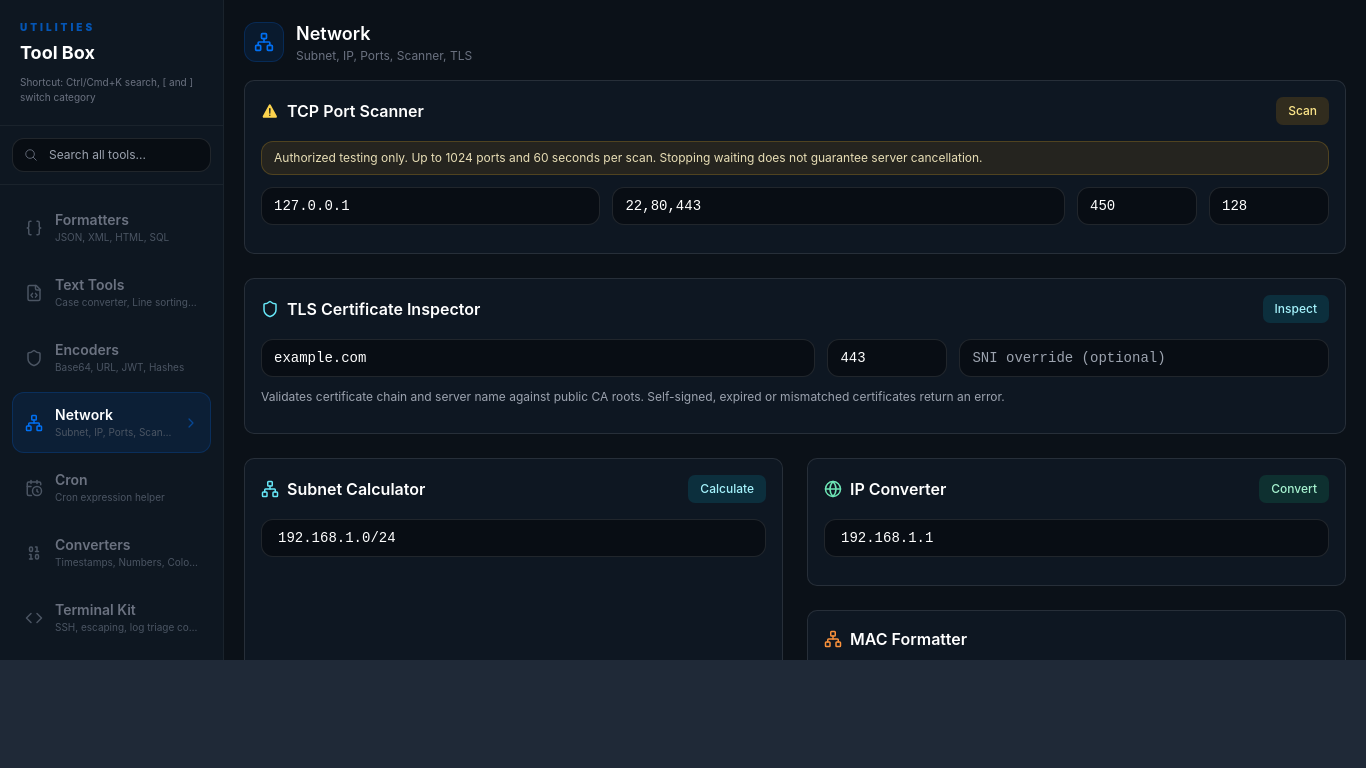
Scenario: Toolbox network workflows › rejects invalid numeric edits instead of silently substituting defaults
Later steps or results of the test are not shown.
Replace the text in the number field named "Scan concurrency" with "0": (1269, 206) [1209, 187, 1329, 225]
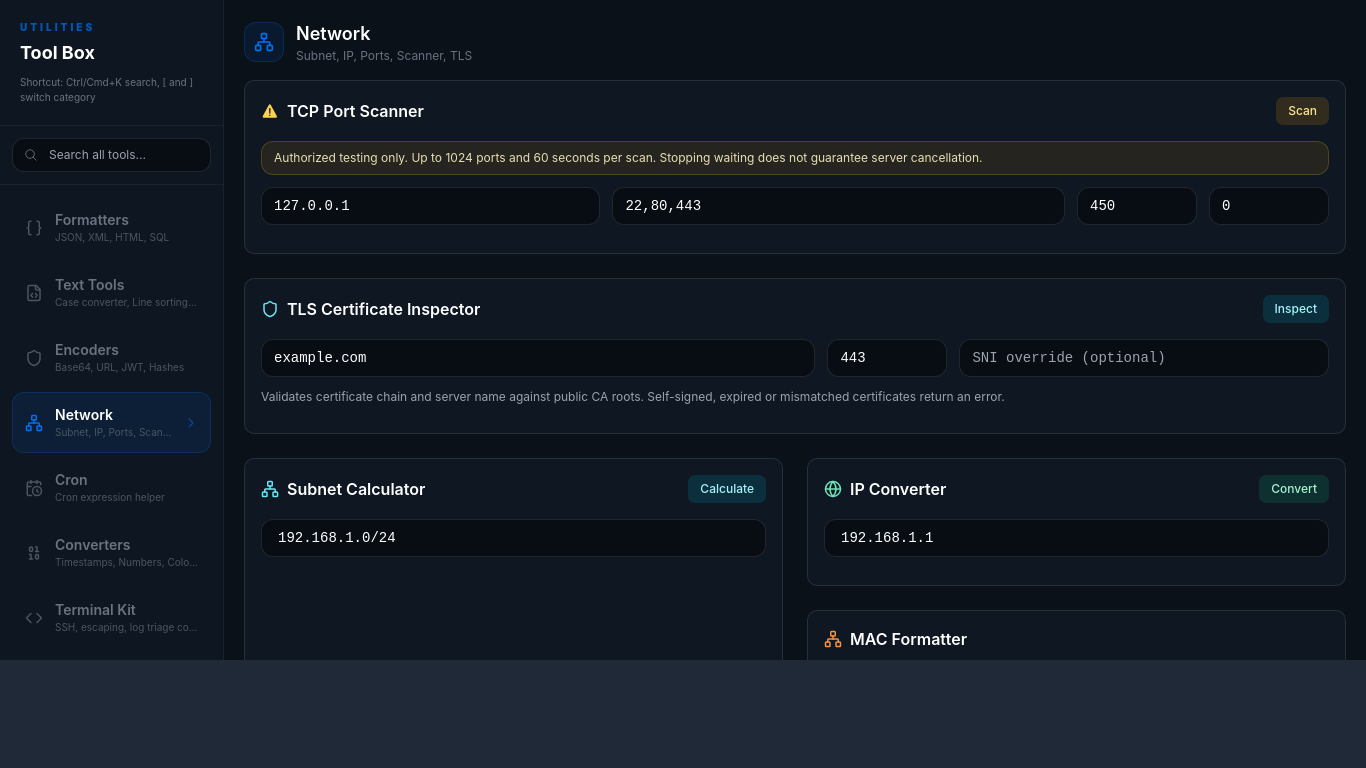
Click the button "Scan": (1303, 111) [1276, 97, 1329, 125]
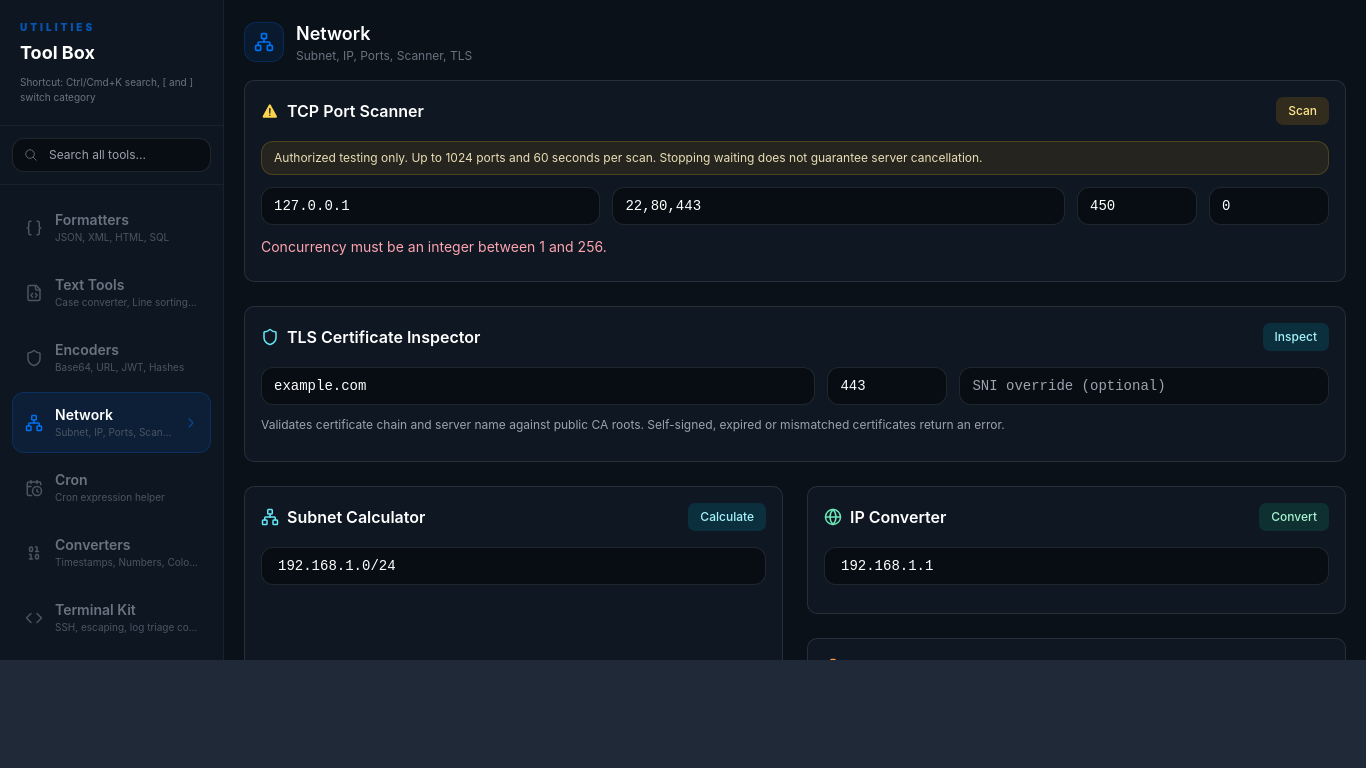
Check: the message shows "Concurrency must be an integer", box [261, 238, 607, 255]
